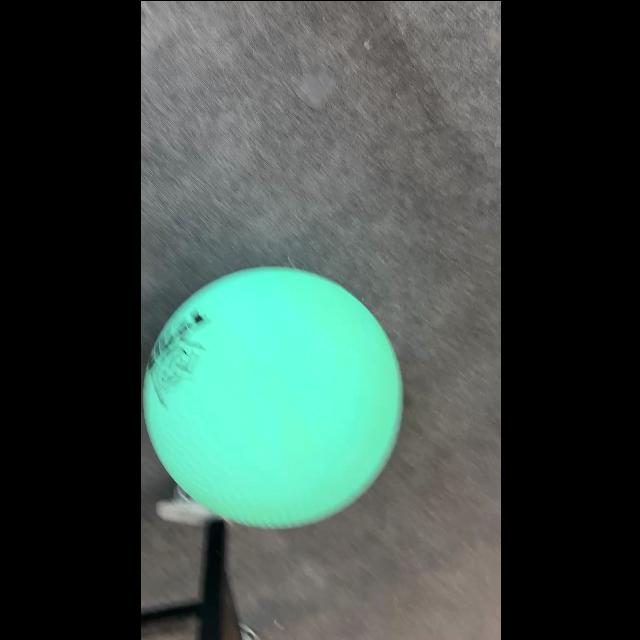ALGAE: (142, 264, 402, 530)
